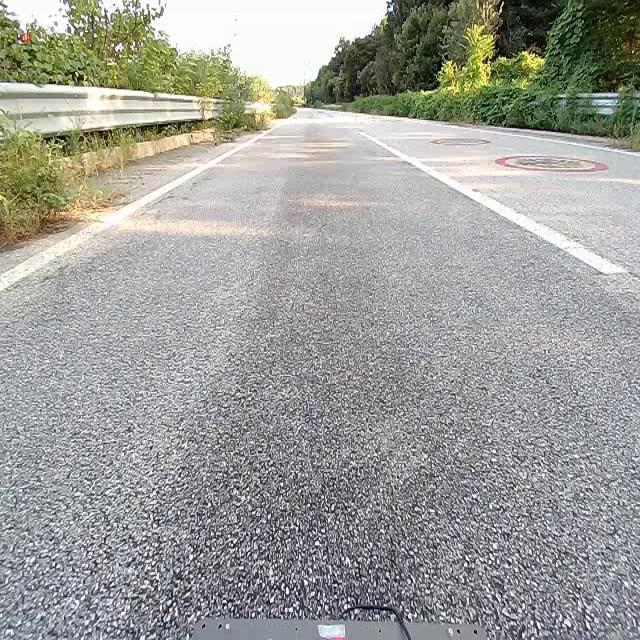Lane: (0, 118, 280, 293), (350, 125, 640, 278), (0, 131, 269, 293), (361, 131, 626, 273)
